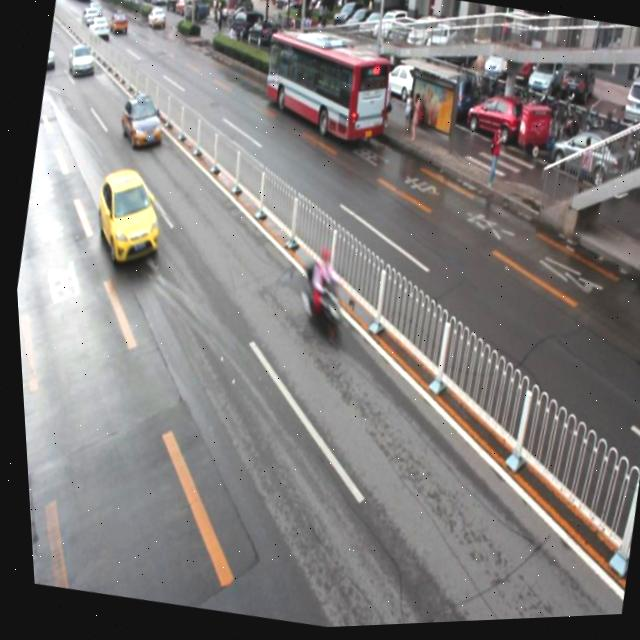car: (83, 163, 170, 272), (114, 91, 170, 156)
van: (253, 25, 398, 155)
